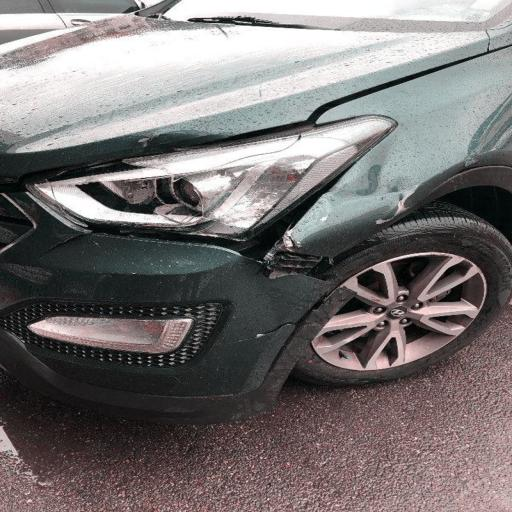broken: (75, 126, 401, 334)
